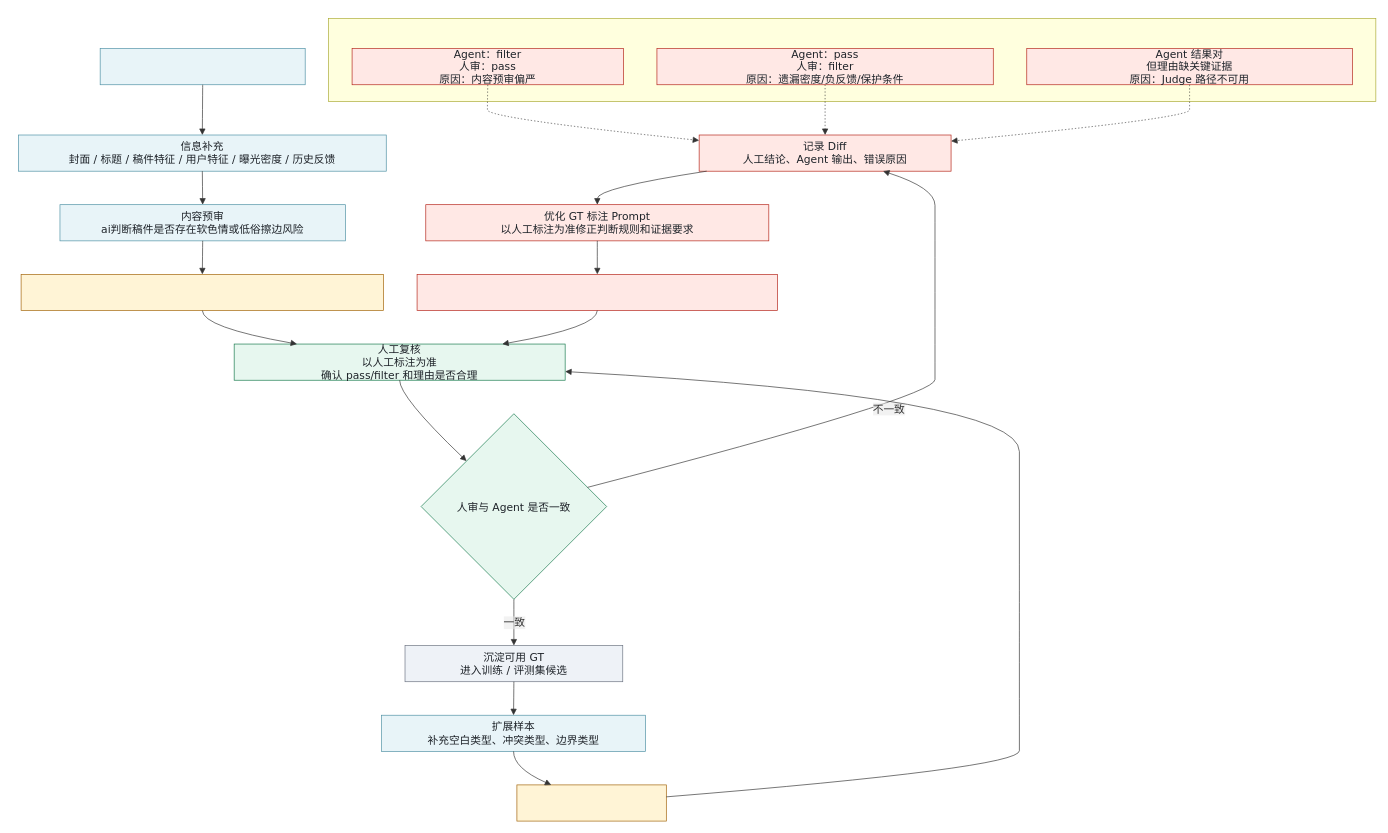
Image size: 1388x833. Some labels were removed from this diagram. The shapes that lost their labels are listed below. From the top down, each one's box as (x1, y1, x2, y2) in pixels, then its label:
(99, 48, 305, 85): 样本抽取
(328, 18, 1376, 102): 典型 Diff 处理
(20, 274, 384, 311): GT 标注 Agent 输出 pass / filter 以及 Judge 联合路径、关键证据
(416, 274, 778, 311): 重新标注已有样本 检查 pass/filter、联合路径、关键证据是否改善
(516, 784, 666, 821): 新样本批量 Agent 标注
